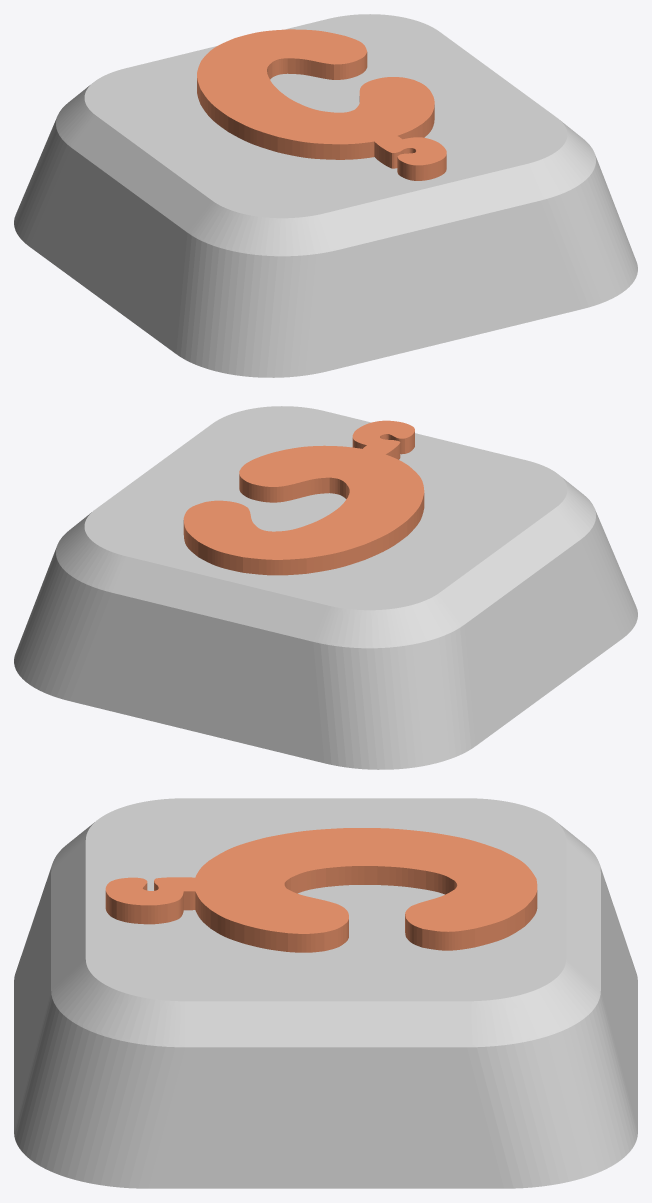
The model's file is cap-c_cedilla.glb.
3 views of the same model, one above another, from view 1: azimuth 30°, elevation 25°; view 2: azimuth 150°, elevation 25°; view 3: azimuth 270°, elevation 25° (orthographic). The views are drawn at different scales.
Visible parts, largest first — view 1: cap_1, glyph_0; view 2: cap_1, glyph_0; view 3: cap_1, glyph_0.
Part boxes in pixels (x1,y1,x2,y2): cap_1: (14,14,637,377); glyph_0: (197,29,446,180); cap_1: (14,406,637,769); glyph_0: (183,420,424,575); cap_1: (14,798,637,1188); glyph_0: (105,828,537,952).
Bounding box in the file's own units: 18 × 5.6 × 18.
